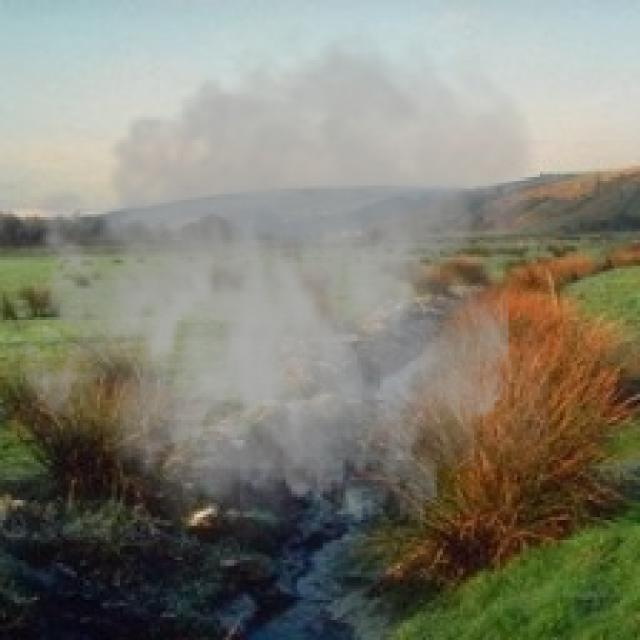Smoke: (0, 14, 549, 566)
